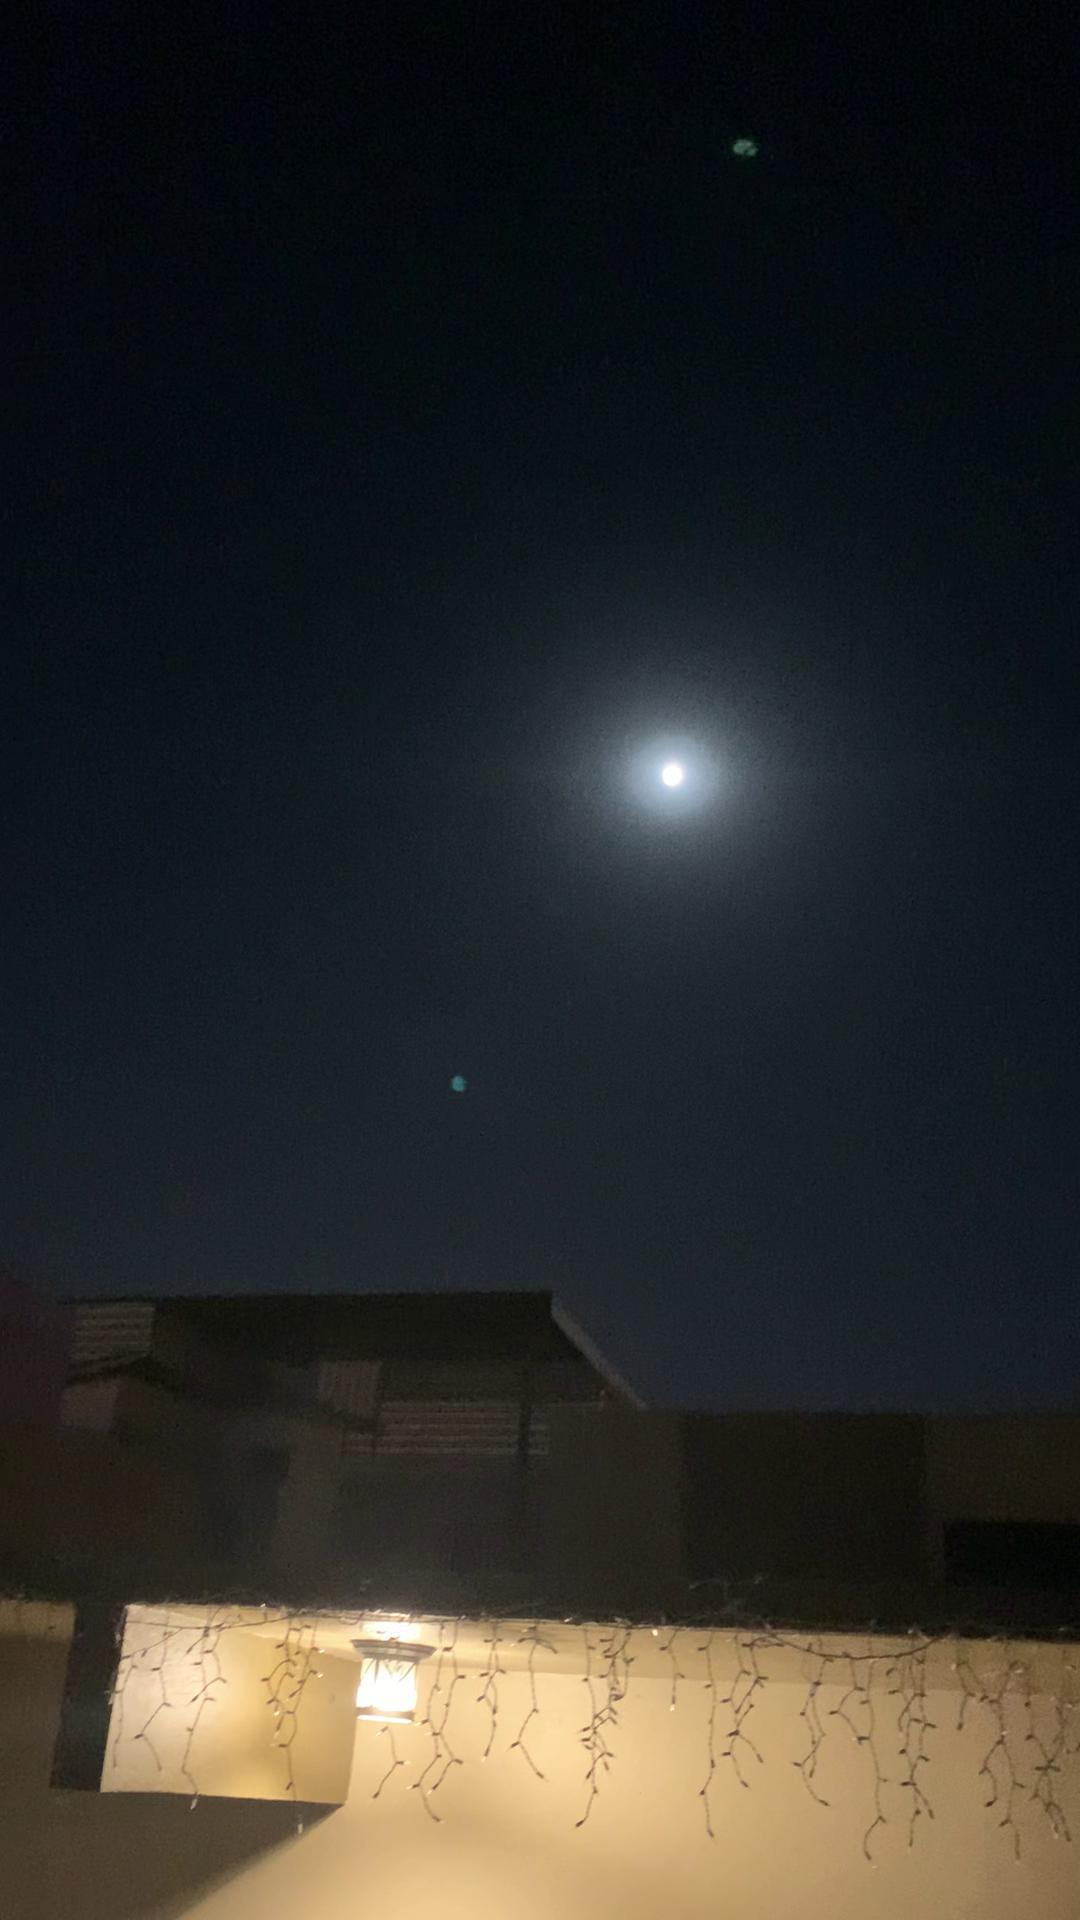moon: (625, 735, 712, 814)
